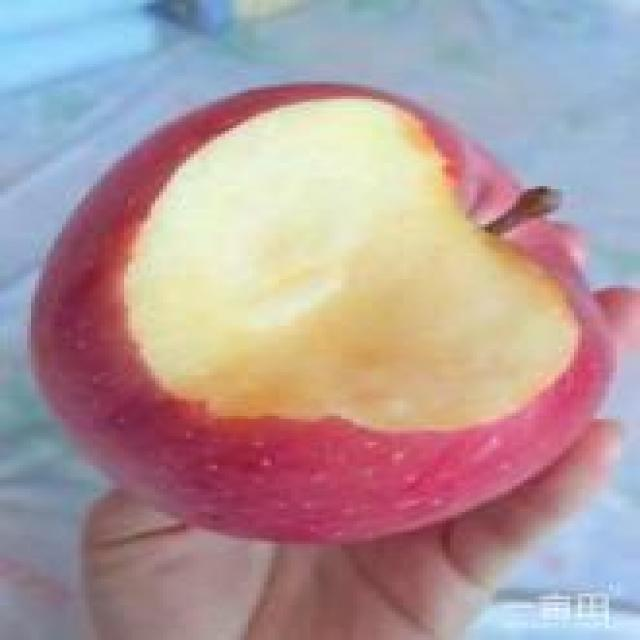Banana: (20, 77, 613, 552)
